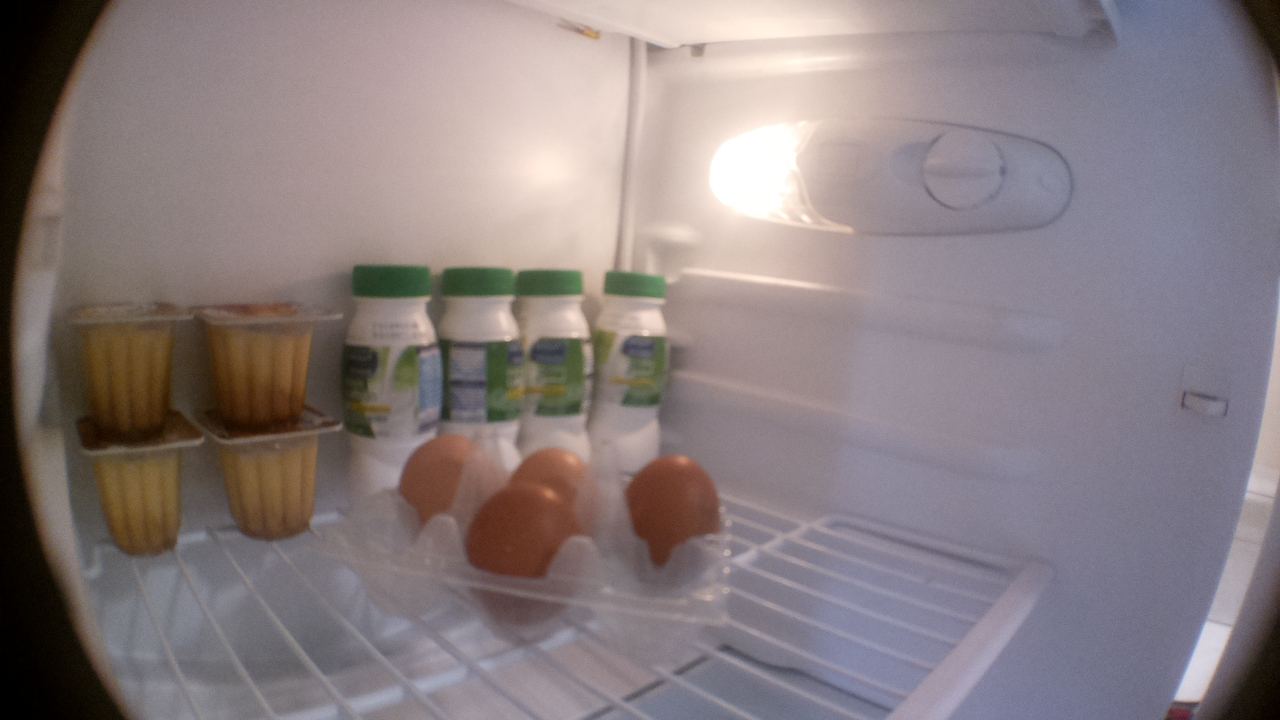caramel: (202, 407, 345, 551), (67, 298, 193, 445), (198, 301, 344, 427), (71, 423, 199, 559)
egg: (467, 484, 589, 653), (624, 451, 730, 596), (397, 429, 486, 526), (507, 444, 608, 523)
laban: (336, 259, 442, 495), (440, 264, 530, 442), (513, 263, 593, 445), (597, 266, 674, 454)
